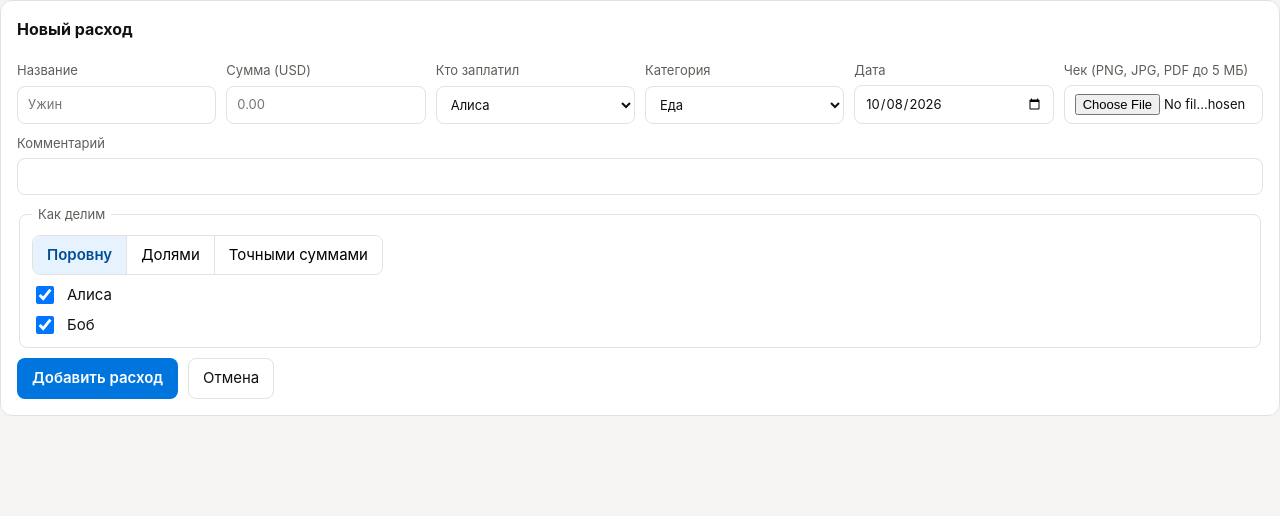
Test case: ExpenseForm › rejects a non-integer share weight
This screenshot has width=1280, height=516.
Type "10" into the field with placeholder "0.00".
click(326, 105); type("10")  # box [226,86,426,124]
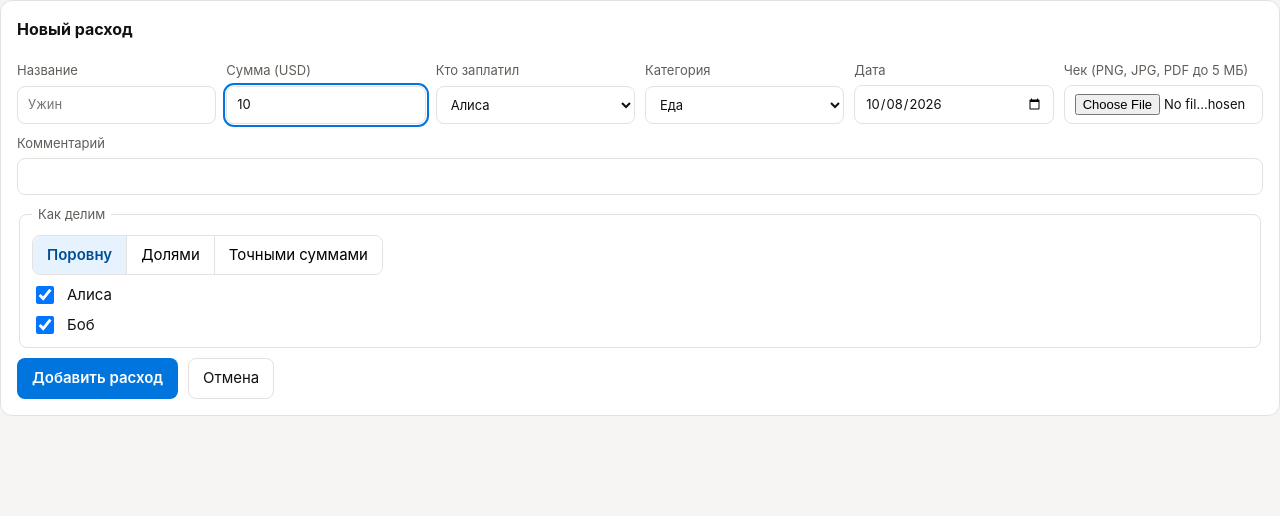
Click the button "Долями".
click(171, 255)  # box [127,236,215,274]
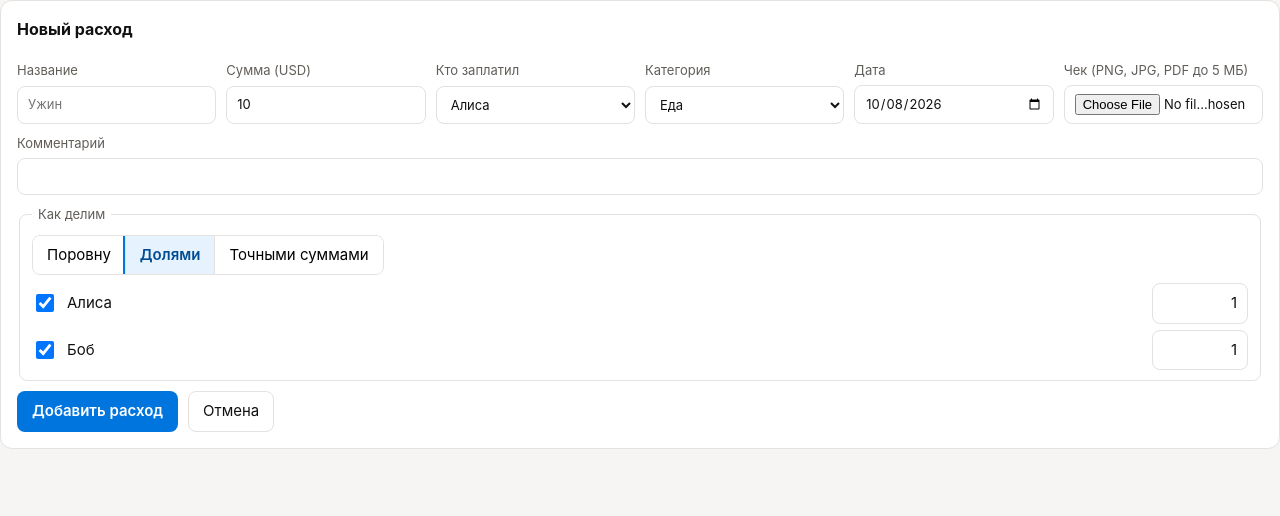
Replace the text in the field named "Доля: Алиса" with "1.5" at (1200, 303), box [1152,283,1248,324]
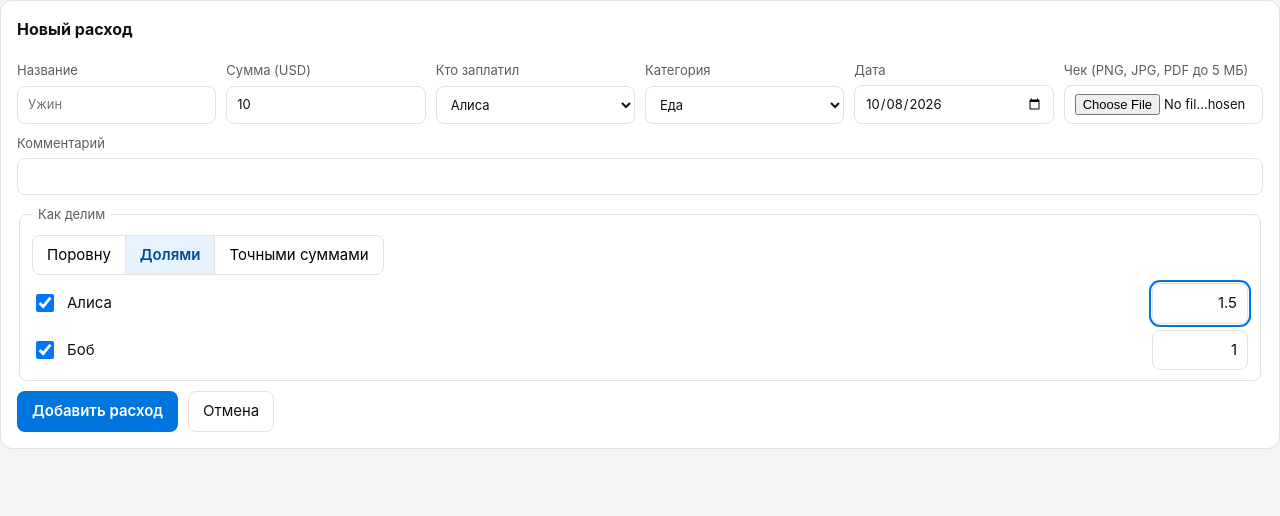
Click the button "Добавить расход".
click(98, 411)  # box [17,391,178,432]
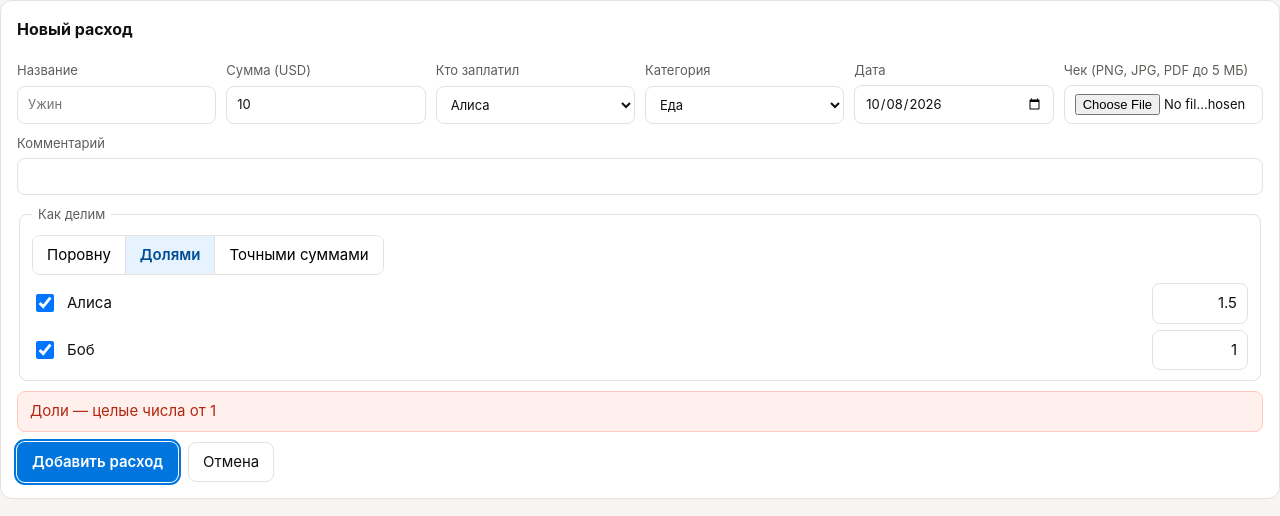
Check: the message shows "Доли — целые числа", box [30,401,216,420]
